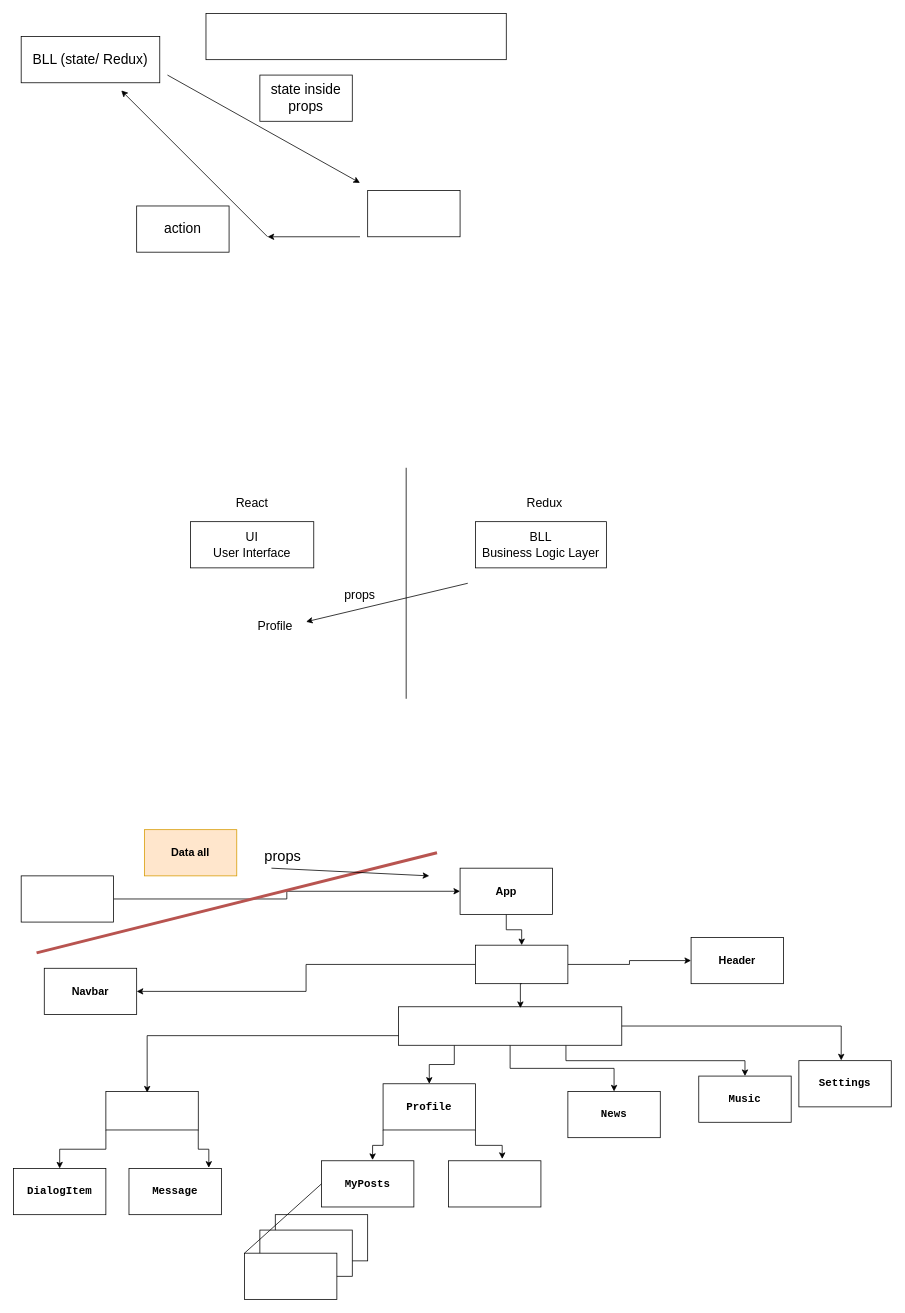
The diagram is 905 pixels wide and 1313 high, and some of its shapes have lost their labels. The centre of each missing label's shape, as x and y in pixels:
"BrowserRouter" goes at point (521, 964).
"Content общее название для всех детей, но по факту данного квадрата в коде нет" goes at point (510, 1025).
"Dialogs" goes at point (151, 1110).
"FLUX -концепция" goes at point (355, 36).
"index.js" goes at point (67, 898).
"Post" goes at point (290, 1275).
"ProfileInfo" goes at point (494, 1183).
"UI (React)" goes at point (413, 213).
